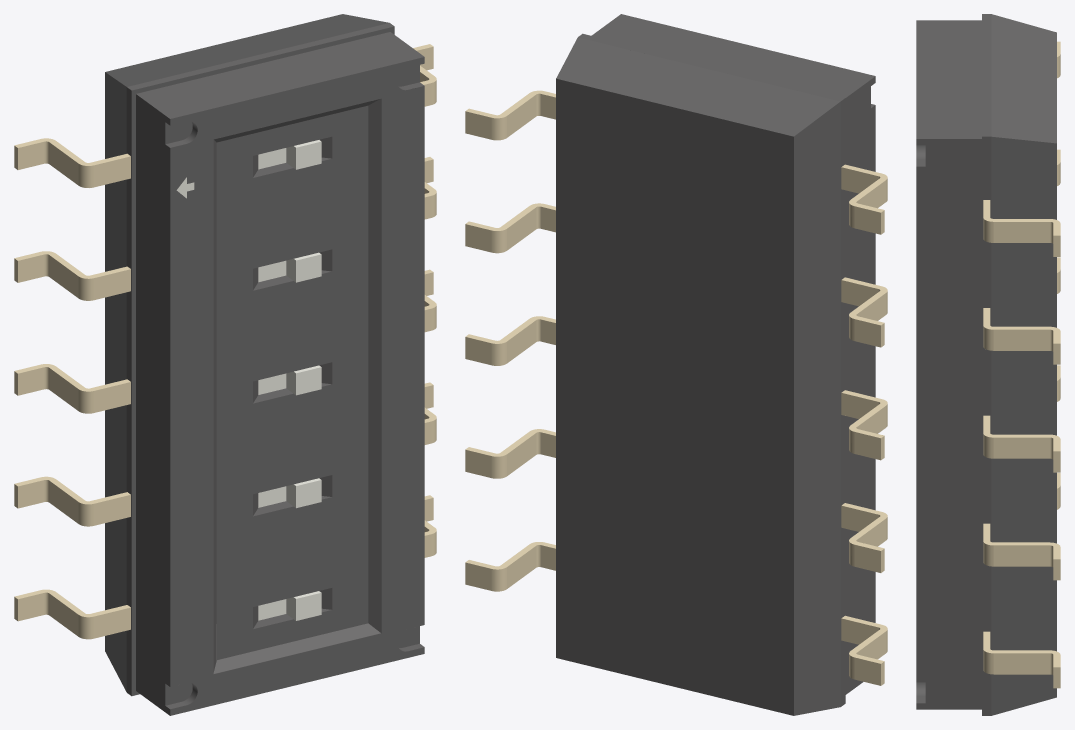
The model's file is SW_DIP_SPSTx05_Slide_Omron_A6S-510x_W8.9mm_P2.54mm.glb.
The picture shows the model from 3 angles, left to right: view 1: azimuth 30°, elevation 25°; view 2: azimuth 150°, elevation 25°; view 3: azimuth 270°, elevation 25°; orthographic projection. The views are drawn at different scales.
Parts seen in each view (by area): view 1: Shape_IndexedFaceSet.173, Shape_IndexedFaceSet.101, Shape_IndexedFaceSet.108, Shape_IndexedFaceSet.005, Shape_IndexedFaceSet.099, Shape_IndexedFaceSet.172, Shape_IndexedFaceSet.002, Shape_IndexedFaceSet.029, Shape_IndexedFaceSet.078, Shape_IndexedFaceSet.171, Shape_IndexedFaceSet.169, Shape_IndexedFaceSet.006 (+12 smaller); view 2: Shape_IndexedFaceSet.001, Shape_IndexedFaceSet.005, Shape_IndexedFaceSet.002, Shape_IndexedFaceSet.108, Shape_IndexedFaceSet.099, Shape_IndexedFaceSet.029, Shape_IndexedFaceSet.006, Shape_IndexedFaceSet.043, Shape_IndexedFaceSet.061, Shape_IndexedFaceSet.035, Shape_IndexedFaceSet.053, Shape_IndexedFaceSet.071 (+5 smaller); view 3: Shape_IndexedFaceSet.032, Shape_IndexedFaceSet, Shape_IndexedFaceSet.099, Shape_IndexedFaceSet.002, Shape_IndexedFaceSet.003, Shape_IndexedFaceSet.055, Shape_IndexedFaceSet.073, Shape_IndexedFaceSet.037, Shape_IndexedFaceSet.064, Shape_IndexedFaceSet.006, Shape_IndexedFaceSet.046, Shape_IndexedFaceSet.021 (+4 smaller).
Boxes of the visible parts, bbox=[...] form: Shape_IndexedFaceSet.173: bbox=[217, 105, 368, 659]; Shape_IndexedFaceSet.101: bbox=[170, 57, 424, 715]; Shape_IndexedFaceSet.108: bbox=[136, 94, 170, 715]; Shape_IndexedFaceSet.005: bbox=[105, 72, 126, 691]; Shape_IndexedFaceSet.099: bbox=[136, 32, 424, 118]; Shape_IndexedFaceSet.172: bbox=[368, 99, 380, 632]; Shape_IndexedFaceSet.002: bbox=[105, 14, 389, 86]; Shape_IndexedFaceSet.029: bbox=[126, 87, 131, 695]; Shape_IndexedFaceSet.078: bbox=[131, 91, 135, 695]; Shape_IndexedFaceSet.171: bbox=[213, 623, 380, 673]; Shape_IndexedFaceSet.169: bbox=[213, 140, 216, 671]; Shape_IndexedFaceSet.006: bbox=[127, 23, 394, 90]; Shape_IndexedFaceSet.001: bbox=[556, 78, 793, 715]; Shape_IndexedFaceSet.005: bbox=[794, 102, 840, 715]; Shape_IndexedFaceSet.002: bbox=[556, 37, 840, 136]; Shape_IndexedFaceSet.108: bbox=[845, 76, 875, 694]; Shape_IndexedFaceSet.099: bbox=[591, 14, 875, 97]; Shape_IndexedFaceSet.029: bbox=[840, 98, 845, 706]; Shape_IndexedFaceSet.006: bbox=[578, 33, 845, 101]; Shape_IndexedFaceSet.043: bbox=[507, 95, 536, 137]; Shape_IndexedFaceSet.061: bbox=[507, 320, 536, 363]; Shape_IndexedFaceSet.035: bbox=[507, 207, 536, 250]; Shape_IndexedFaceSet.053: bbox=[507, 433, 536, 475]; Shape_IndexedFaceSet.071: bbox=[507, 546, 536, 588]; Shape_IndexedFaceSet.032: bbox=[916, 139, 981, 709]; Shape_IndexedFaceSet: bbox=[991, 136, 1056, 715]; Shape_IndexedFaceSet.099: bbox=[916, 20, 981, 138]; Shape_IndexedFaceSet.002: bbox=[991, 14, 1056, 143]; Shape_IndexedFaceSet.003: bbox=[982, 136, 991, 715]; Shape_IndexedFaceSet.055: bbox=[993, 545, 1049, 566]; Shape_IndexedFaceSet.073: bbox=[993, 653, 1049, 674]; Shape_IndexedFaceSet.037: bbox=[993, 329, 1049, 350]; Shape_IndexedFaceSet.064: bbox=[993, 437, 1049, 458]; Shape_IndexedFaceSet.006: bbox=[982, 14, 991, 136]; Shape_IndexedFaceSet.046: bbox=[993, 222, 1049, 242]; Shape_IndexedFaceSet.021: bbox=[983, 415, 1060, 451].
Size of the model in its own units: 3.86 by 5.37 by 1.21.
